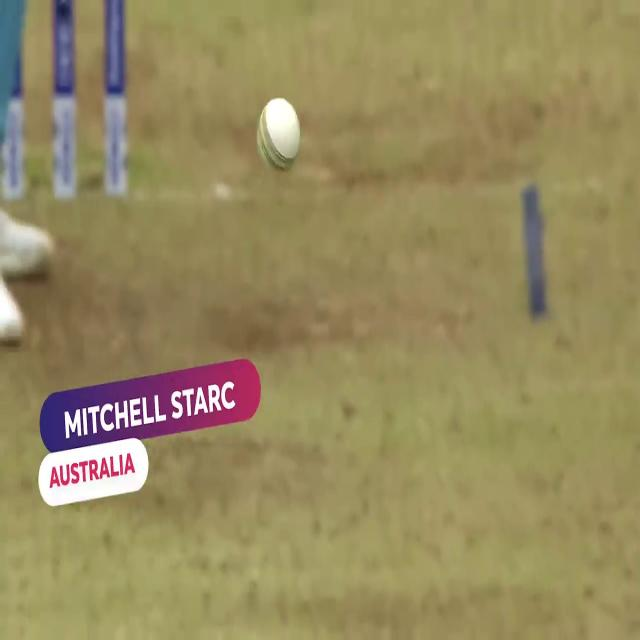ball: (254, 92, 300, 175)
